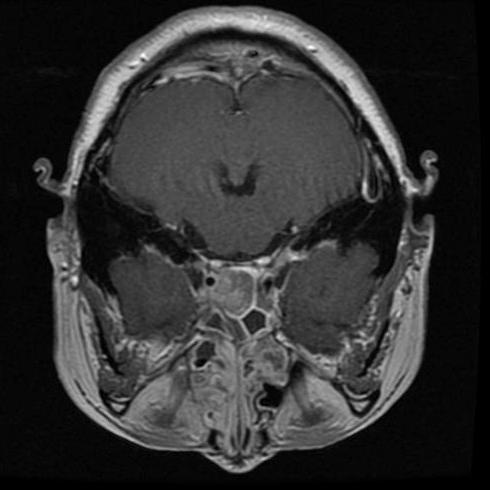Tumour-Pituitary: (196, 257, 285, 313)
